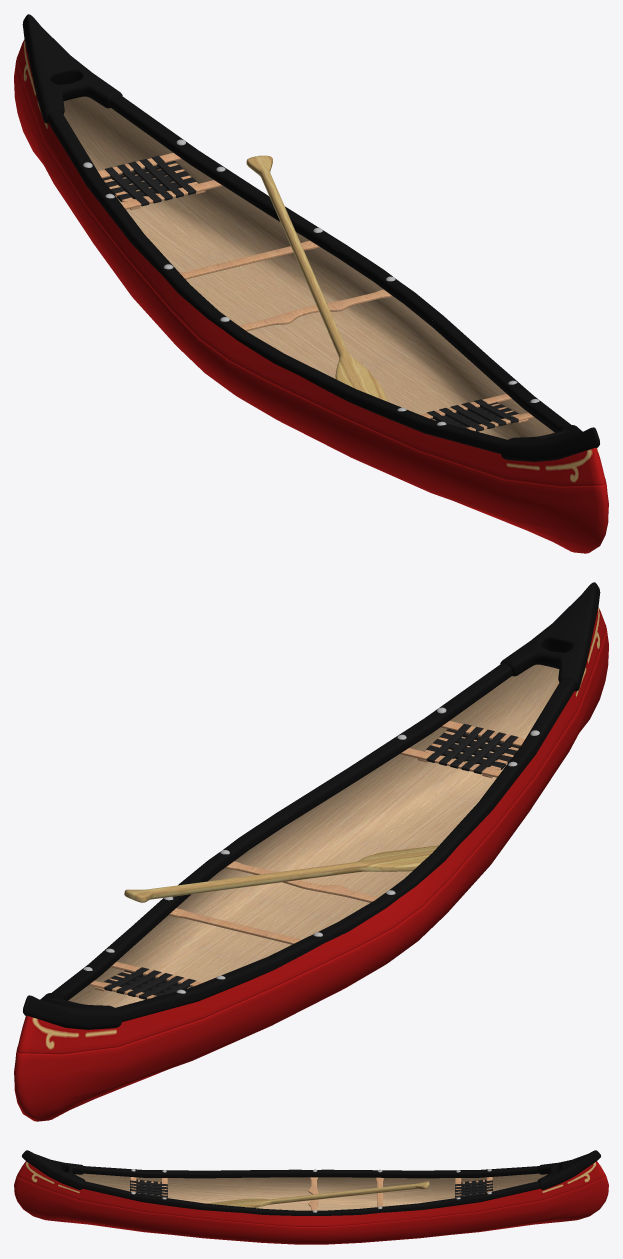
File: Canoa.obj
3 renders of one model, top to bottom at view 1: azimuth 30°, elevation 25°; view 2: azimuth 150°, elevation 25°; view 3: azimuth 270°, elevation 25°, orthographic. The views are drawn at different scales.
Parts seen in each view (by area): view 1: Sketchfab_Default; view 2: Sketchfab_Default; view 3: Sketchfab_Default.
Part boxes in pixels (x1,y1,x2,y2): Sketchfab_Default: [14, 14, 608, 553]; Sketchfab_Default: [14, 582, 608, 1121]; Sketchfab_Default: [14, 1150, 608, 1244].
Size of the model in its own units: 16.2 by 11.71 by 83.43.
